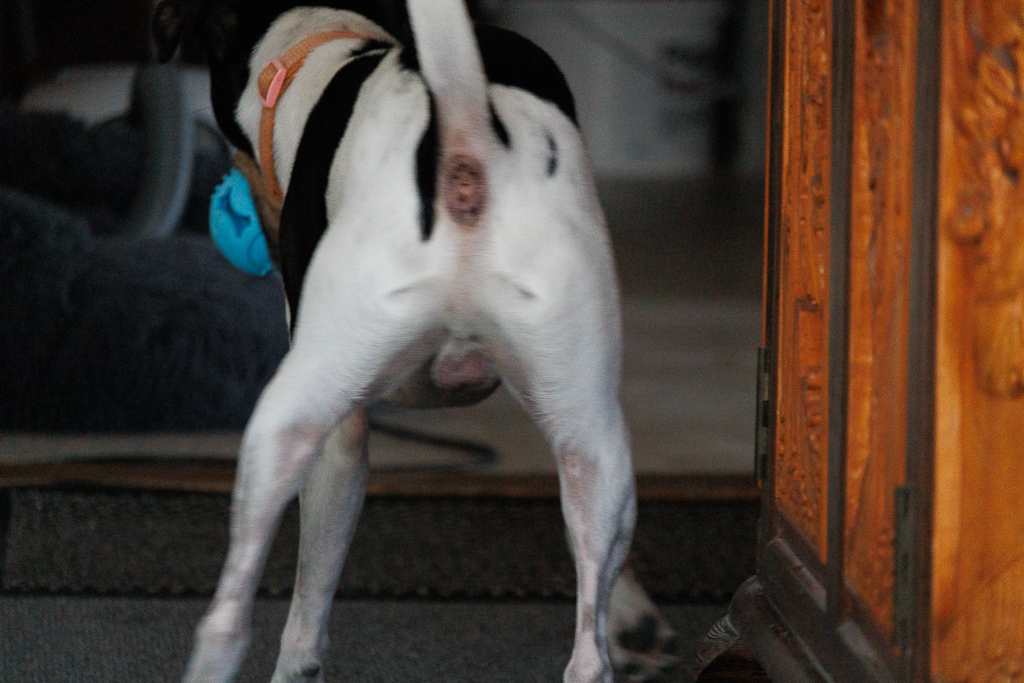Dog: (160, 0, 711, 683)
